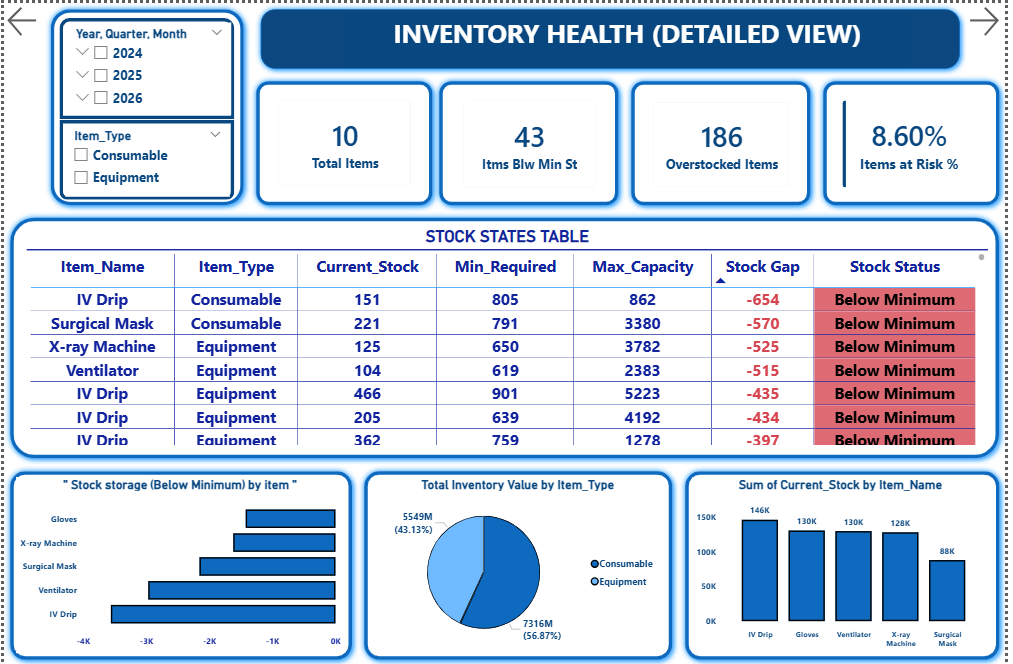

Layout of this report page (visuals, bound fields, positions):
{"tool":"powerbi","page":{"name":"Inventory health","canvas":[1450,960],"ordinal":1},"visuals":[{"type":"shape","box":[57.8,0,297.8,302.2],"z":0},{"type":"shape","box":[622.2,104.4,277.8,197.8],"z":1000},{"type":"shape","box":[900,104.4,277.8,197.8],"z":2000},{"type":"shape","box":[1177.8,104.4,273.3,197.8],"z":3000},{"type":"shape","box":[355.6,104.4,273.3,197.8],"z":4000},{"type":"shape","box":[0,302.2,1451.1,366.7],"z":5000},{"type":"cardVisual","fields":{"Data":["Inventory_data.Total Items"]},"box":[380,124.4,226.7,157.8],"z":6000},{"type":"cardVisual","fields":{"Data":["Inventory_data.Items Below Min Stock"]},"box":[648.9,124.4,226.7,160],"z":7000},{"type":"cardVisual","fields":{"Data":["Inventory_data.Overstocked Items"]},"box":[924.4,126.7,231.1,157.8],"z":8000},{"type":"cardVisual","fields":{"Data":["Inventory_data.Items at Risk %"]},"box":[1197.8,124.4,228.9,160],"z":9000},{"type":"tableEx","title":"STOCK STATES TABLE","fields":{"Values":["Inventory_data.Item_Name","Inventory_data.Item_Type","Inventory_data.Current_Stock","Inventory_data.Min_Required","Inventory_data.Max_Capacity","Inventory_data.Stock Gap","Inventory_data.Stock Status"]},"box":[33.3,324.4,1393.3,320],"z":10000},{"type":"shape","box":[977.8,668.9,473.3,291.1],"z":11000},{"type":"shape","box":[0,668.9,513.3,291.1],"z":12000},{"type":"barChart","title":"\" Stock storage (Below Minimum) by item \"","fields":{"Category":["Inventory_data.Item_Name"],"Y":["Sum(Inventory_data.Stock Gap)"]},"box":[17.8,686.7,475.6,255.6],"z":13000},{"type":"columnChart","fields":{"Category":["Inventory_data.Item_Name"],"Y":["Sum(Inventory_data.Current_Stock)"]},"box":[997.8,686.7,428.9,255.6],"z":14000},{"type":"shape","box":[513.3,668.9,464.4,291.1],"z":15000},{"type":"pieChart","fields":{"Category":["Inventory_data.Item_Type"],"Y":["Inventory_data.Total Inventory Value"]},"box":[535.6,686.7,420,255.6],"z":16000},{"type":"shape","box":[80,22.2,253.3,146.7],"z":17000},{"type":"slicer","fields":{"Values":["Inventory_data.Date Hierarchy.Year","Inventory_data.Date Hierarchy.Quarter","Inventory_data.Date Hierarchy.Month"]},"box":[91.1,28.9,237.8,133.3],"z":18000},{"type":"shape","box":[80,168.9,253.3,115.6],"z":19000},{"type":"slicer","fields":{"Values":["Inventory_data.Item_Type"]},"box":[88.9,175.6,237.8,104.4],"z":20000},{"type":"shape","box":[362.2,0,1031.1,104.4],"z":21000},{"type":"textbox","box":[493.3,13.3,820,77.8],"z":22000},{"type":"actionButton","box":[0,0,57.8,53.3],"z":23000},{"type":"actionButton","box":[1393.3,0,57.8,53.3],"z":24000}]}

Visuals, with their boxes in screenshot pixels (x1, y1, x2, y2), scaled from the page's 1450x960 canvas onto the 1013x664 screenshot:
shape: Rect(40, 0, 248, 209)
shape: Rect(435, 72, 629, 209)
shape: Rect(629, 72, 823, 209)
shape: Rect(823, 72, 1012, 209)
shape: Rect(248, 72, 439, 209)
shape: Rect(0, 209, 1012, 463)
cardVisual - Inventory_data.Total Items: Rect(265, 86, 424, 195)
cardVisual - Inventory_data.Items Below Min Stock: Rect(453, 86, 612, 197)
cardVisual - Inventory_data.Overstocked Items: Rect(646, 88, 807, 197)
cardVisual - Inventory_data.Items at Risk %: Rect(837, 86, 997, 197)
"STOCK STATES TABLE" tableEx: Rect(23, 224, 997, 446)
shape: Rect(683, 463, 1012, 663)
shape: Rect(0, 463, 359, 663)
"" Stock storage (Below Minimum) by item "" barChart: Rect(12, 475, 345, 652)
columnChart - Inventory_data.Item_Name x Sum(Inventory_data.Current_Stock): Rect(697, 475, 997, 652)
shape: Rect(359, 463, 683, 663)
pieChart - Inventory_data.Item_Type x Inventory_data.Total Inventory Value: Rect(374, 475, 668, 652)
shape: Rect(56, 15, 233, 117)
slicer - Inventory_data.Date Hierarchy.Year x Inventory_data.Date Hierarchy.Quarter: Rect(64, 20, 230, 112)
shape: Rect(56, 117, 233, 197)
slicer - Inventory_data.Item_Type: Rect(62, 121, 228, 194)
shape: Rect(253, 0, 973, 72)
textbox: Rect(345, 9, 917, 63)
actionButton: Rect(0, 0, 40, 37)
actionButton: Rect(973, 0, 1012, 37)
